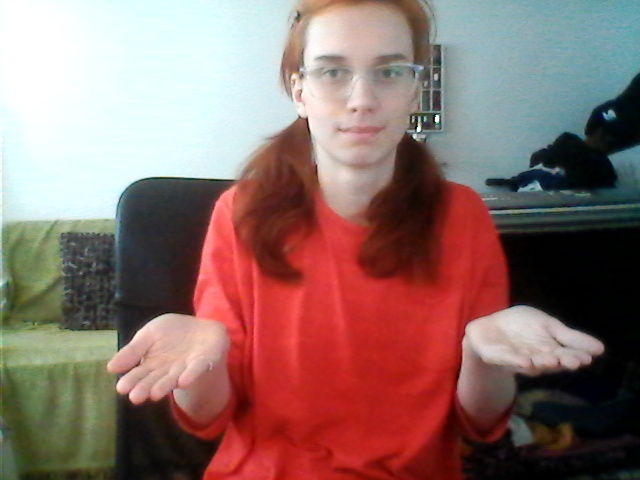alebo: (103, 305, 618, 410)
